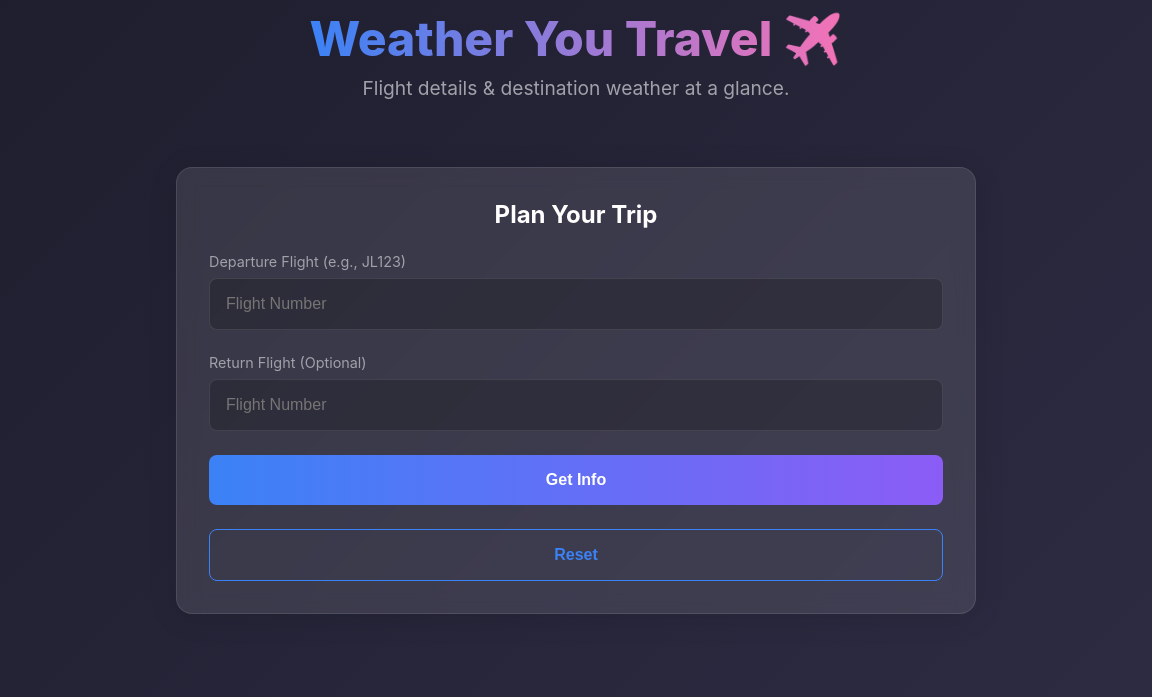
Test case: App › shows error message when flight lookup fails
In the field labelled "Departure Flight (e.g., JL123)": {"x": 576, "y": 304} top-left (209, 278), bottom-right (943, 330), type "JL123"
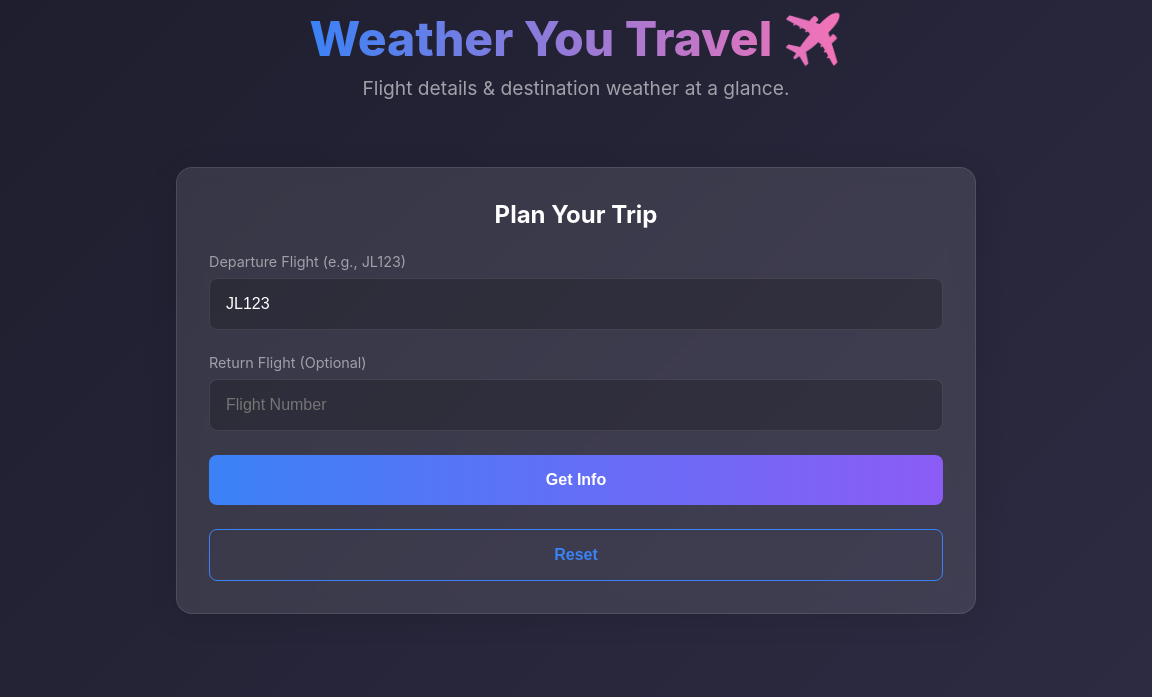
Click the button "Get Info": {"x": 576, "y": 480} top-left (209, 455), bottom-right (943, 505)
(page scrolled)
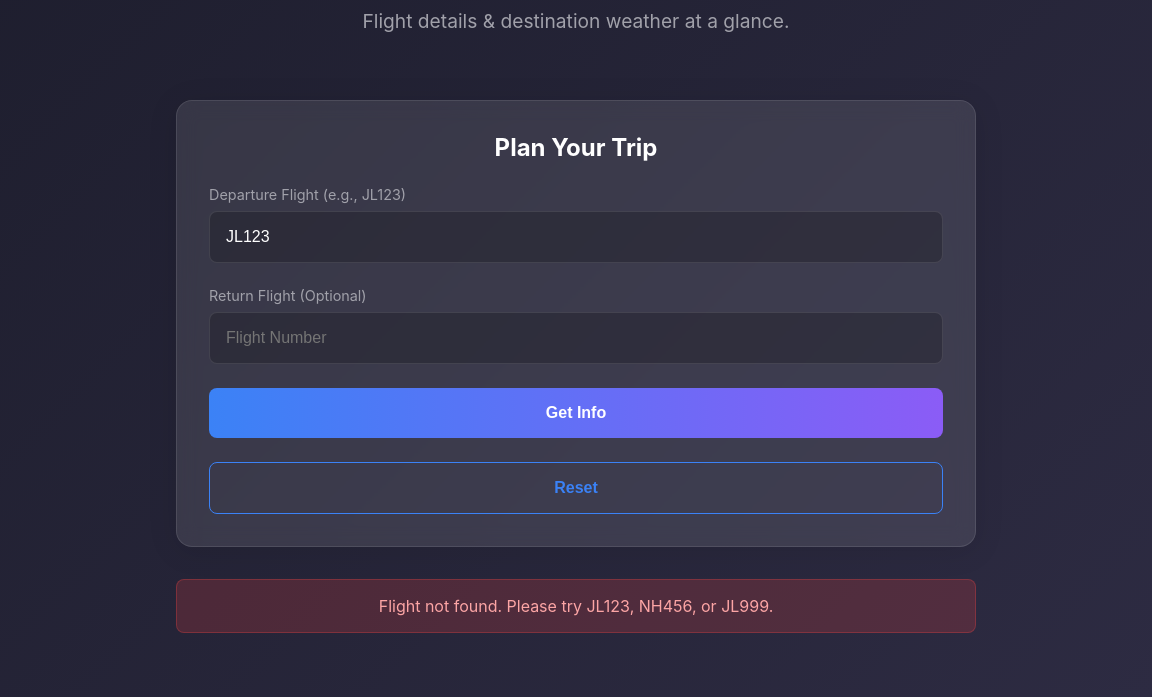
Now the message shows "Flight not found", box top-left (379, 596), bottom-right (773, 616)
